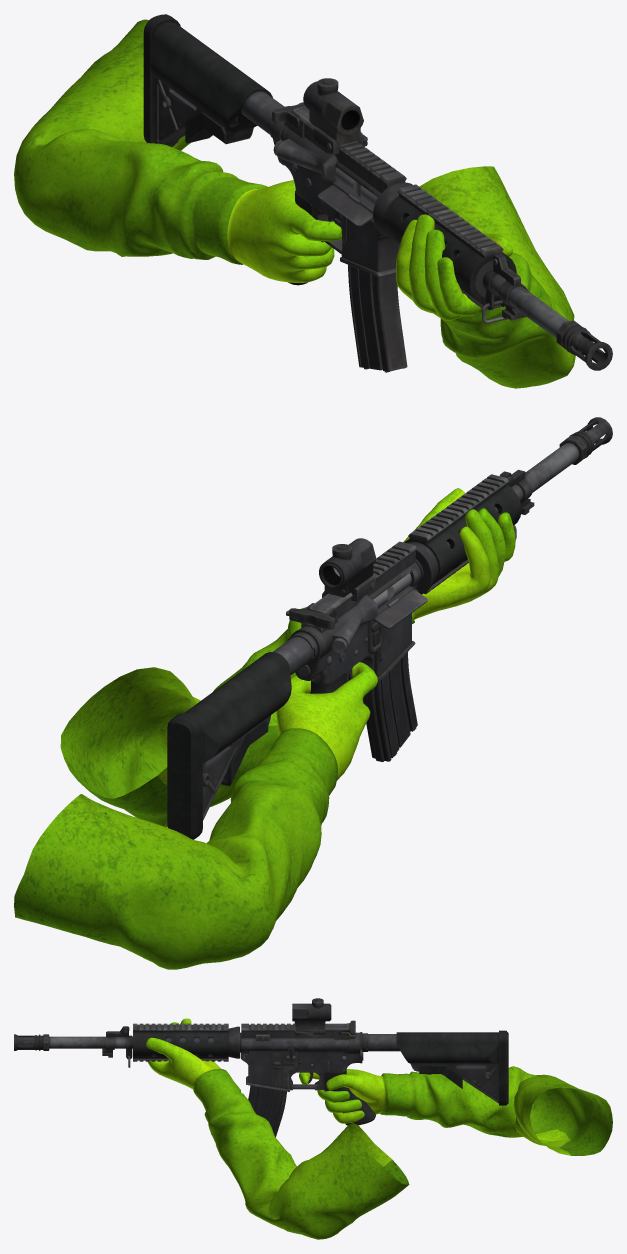
Rendered from greenarms.obj.
The picture shows the model from 3 angles, top to bottom: view 1: azimuth 30°, elevation 25°; view 2: azimuth 150°, elevation 25°; view 3: azimuth 270°, elevation 25°; orthographic projection. The views are drawn at different scales.
Parts seen in each view (by area): view 1: armmesh_arms_0, base_carbine_0, clip_carbine_0, scope_carbine_0, lid_carbine_0, bolt_carbine_0; view 2: armmesh_arms_0, base_carbine_0, clip_carbine_0, scope_carbine_0, lid_carbine_0, handle_carbine_0; view 3: armmesh_arms_0, base_carbine_0, scope_carbine_0, clip_carbine_0.
Part boxes in pixels (<box>): armmesh_arms_0: <box>14,19,575,388</box>; base_carbine_0: <box>143,14,612,370</box>; clip_carbine_0: <box>348,265,407,372</box>; scope_carbine_0: <box>303,78,367,154</box>; lid_carbine_0: <box>318,185,373,226</box>; bolt_carbine_0: <box>335,167,376,207</box>; armmesh_arms_0: <box>14,488,515,969</box>; base_carbine_0: <box>167,417,612,839</box>; clip_carbine_0: <box>363,652,417,761</box>; scope_carbine_0: <box>319,538,376,601</box>; lid_carbine_0: <box>373,589,427,628</box>; handle_carbine_0: <box>289,603,337,629</box>; armmesh_arms_0: <box>146,1018,612,1239</box>; base_carbine_0: <box>14,1023,508,1125</box>; scope_carbine_0: <box>292,998,331,1036</box>; clip_carbine_0: <box>248,1085,286,1137</box>.
Bounding box in the file's own units: 45.32 × 41.78 × 122.
